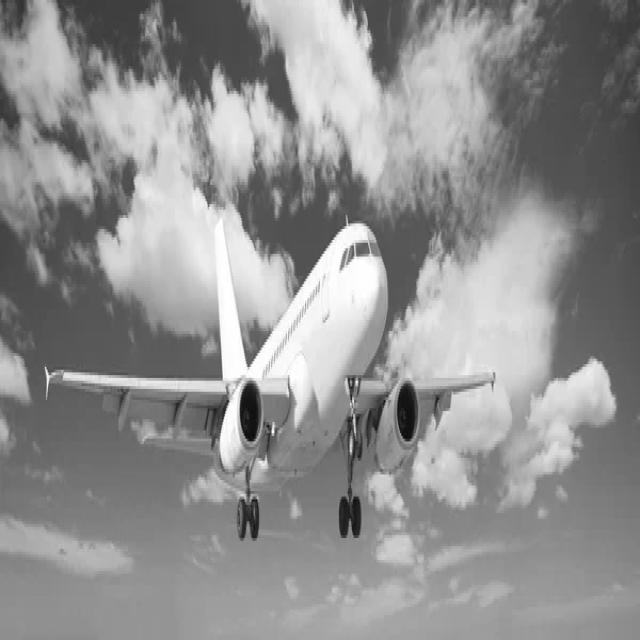Aircraft: (42, 209, 501, 561)
